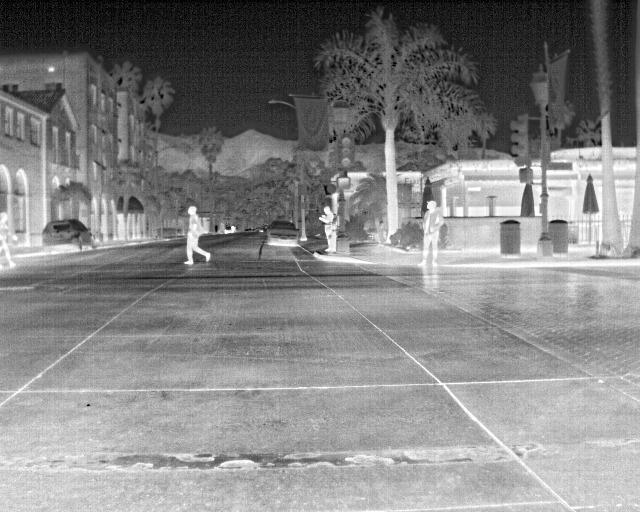bicycle: (40, 218, 96, 253), (265, 218, 298, 247)
empty: (415, 198, 445, 267), (179, 203, 210, 265), (317, 206, 338, 253), (0, 211, 15, 265)
